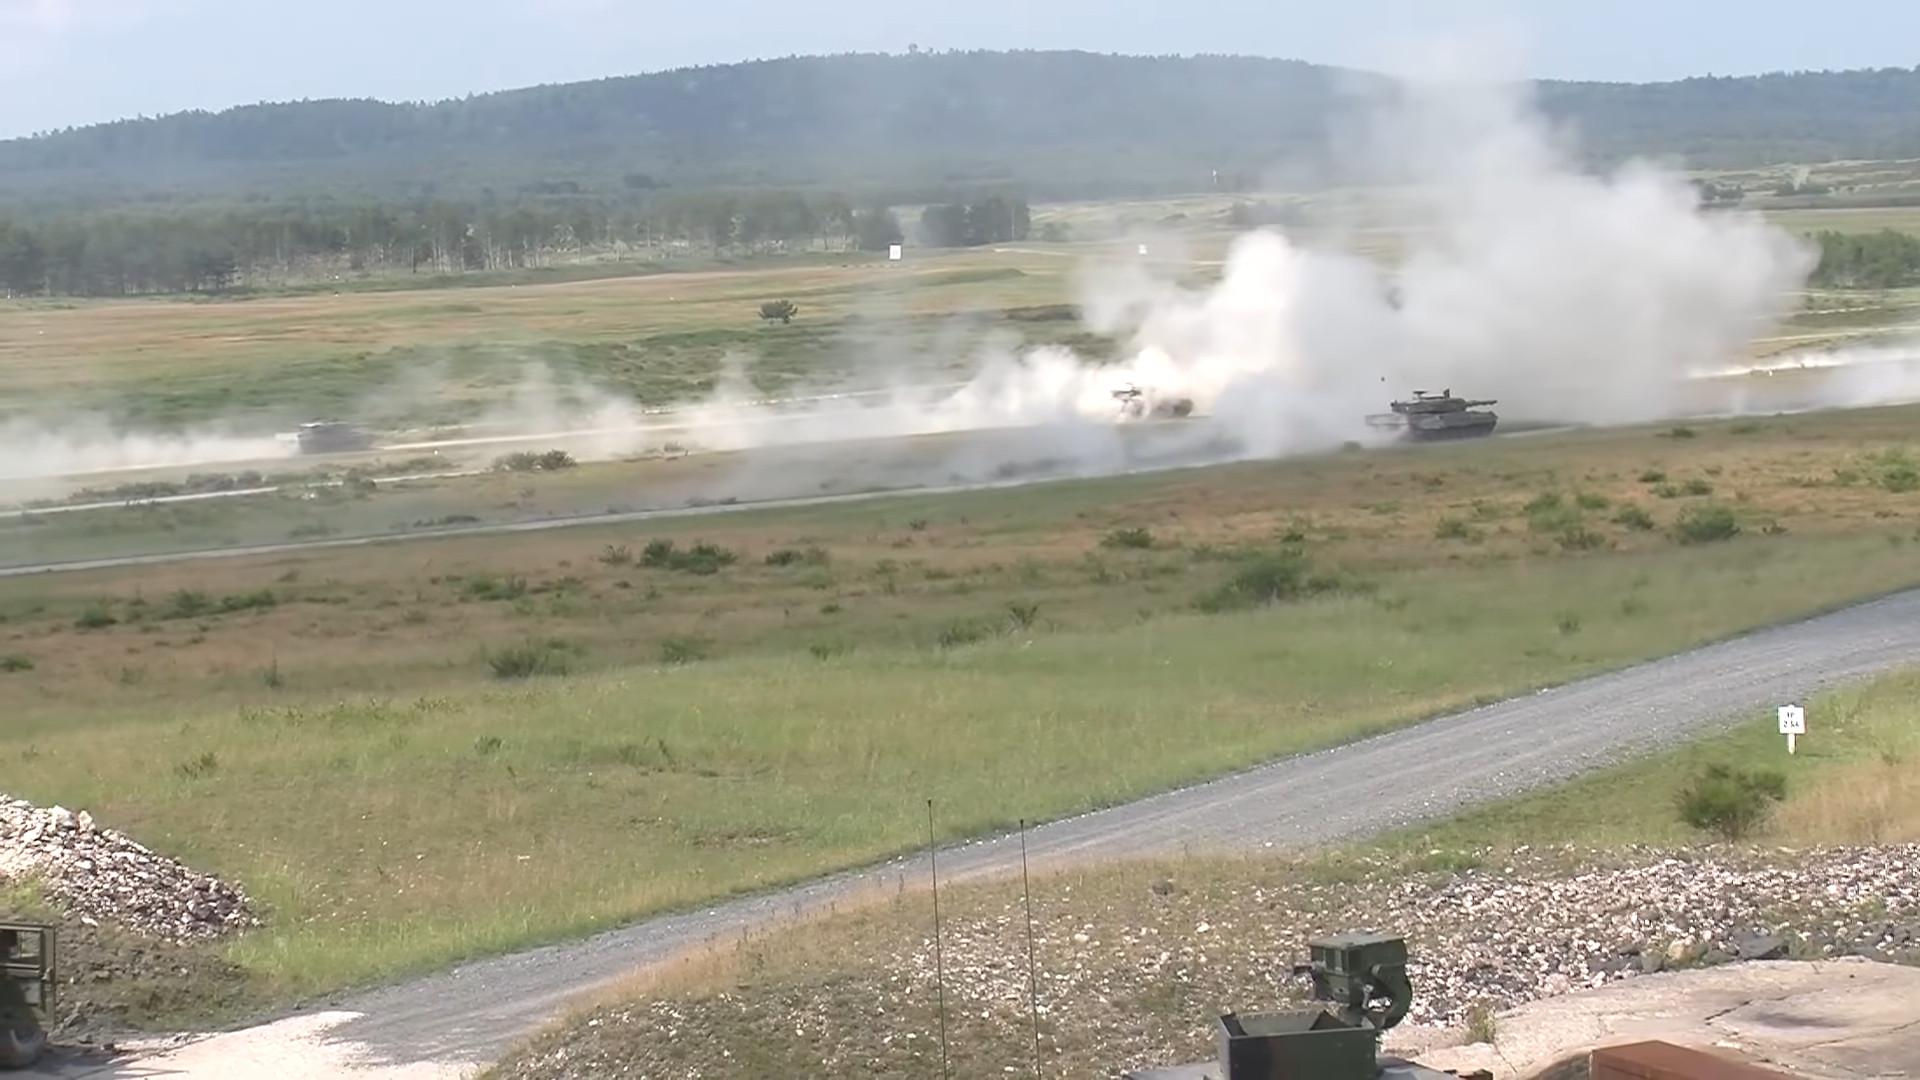tank: (1366, 399, 1497, 442), (276, 422, 376, 453)
